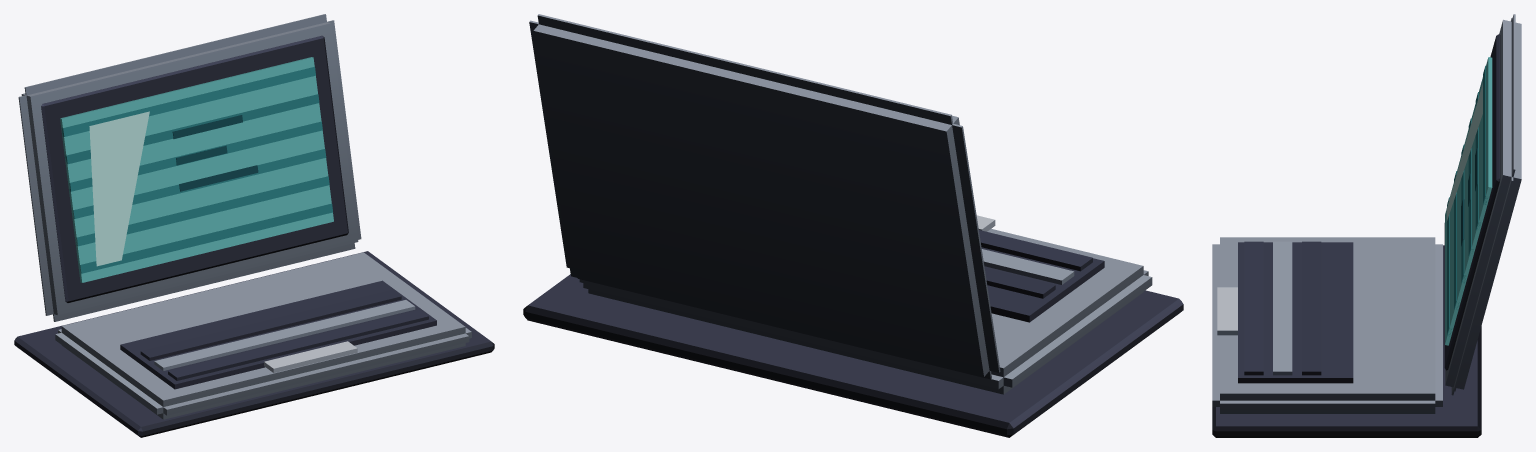
File: laptop.glb
3 renders of one model, left to right at view 1: azimuth 30°, elevation 25°; view 2: azimuth 150°, elevation 25°; view 3: azimuth 270°, elevation 25°, orthographic. The views are drawn at different scales.
Parts seen in each view (by area): view 1: laptop; view 2: laptop; view 3: laptop.
Part boxes in pixels (bbox=[...]): laptop: bbox=[14, 14, 494, 437]; laptop: bbox=[523, 14, 1183, 437]; laptop: bbox=[1212, 14, 1521, 437].
Size of the model in its own units: 0.68 by 0.4399 by 0.4826.
